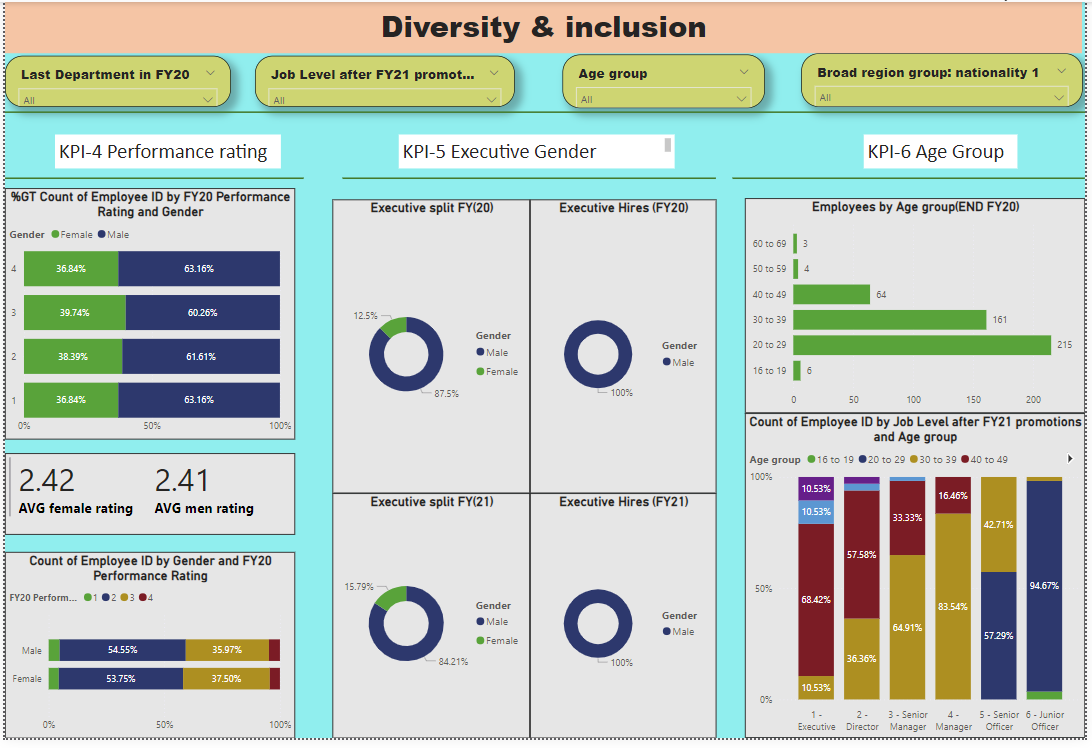

The dashboard page shown, as its layout file describes it:
{"tool":"powerbi","page":{"name":"Page 2","canvas":[1400,954],"ordinal":1},"visuals":[{"type":"slicer","fields":{"Values":["Pharma Group AG.Last Department in FY20"]},"box":[0,69.6,293.2,66.4],"z":0},{"type":"slicer","fields":{"Values":["Pharma Group AG.Job Level after FY21 promotions"]},"box":[323.9,69.6,336.9,66.4],"z":1000},{"type":"slicer","fields":{"Values":["Pharma Group AG.Age group"]},"box":[722.4,68,262.4,69.6],"z":2000},{"type":"slicer","fields":{"Values":["Pharma Group AG.Broad region group: nationality 1"]},"box":[1031.7,66.4,364.4,69.6],"z":3000},{"type":"textbox","box":[0,0,1396.2,66.4],"z":4000},{"type":"shape","box":[0,135.5,1400.3,13.4],"z":5000},{"type":"hundredPercentStackedBarChart","fields":{"Category":["Pharma Group AG.FY20 Performance Rating"],"Y":["CountNonNull(Pharma Group AG.Employee ID)"],"Series":["Pharma Group AG.Gender"]},"box":[0,241.3,375.8,325.6],"z":6000},{"type":"hundredPercentStackedBarChart","fields":{"Category":["Pharma Group AG.Gender"],"Y":["CountNonNull(Pharma Group AG.Employee ID)"],"Series":["Pharma Group AG.FY20 Performance Rating"]},"box":[0,712.7,375.8,241.3],"z":7000},{"type":"donutChart","title":"Executive split FY(20)","fields":{"Category":["Pharma Group AG.Gender"],"Y":["CountNonNull(Pharma Group AG.Employee ID)"]},"box":[424.4,255.9,255.9,380.6],"z":8000},{"type":"donutChart","title":"Executive Hires (FY20)","fields":{"Category":["Pharma Group AG.Gender"],"Y":["CountNonNull(Pharma Group AG.Employee ID)"]},"box":[680.3,255.9,241.3,380.6],"z":9000},{"type":"donutChart","title":"Executive Hires (FY21)","fields":{"Category":["Pharma Group AG.Gender"],"Y":["CountNonNull(Pharma Group AG.Employee ID)"]},"box":[680.3,636.5,241.3,317.5],"z":10000},{"type":"donutChart","title":"Executive split FY(21)","fields":{"Category":["Pharma Group AG.Gender"],"Y":["CountNonNull(Pharma Group AG.Employee ID)"]},"box":[424.4,636.5,255.9,317.5],"z":11000},{"type":"clusteredBarChart","title":"Employees by Age group(END FY20)","fields":{"Category":["Pharma Group AG.Age group"],"Y":["CountNonNull(Pharma Group AG.Employee ID)"]},"box":[958.9,254.3,440.6,278.6],"z":12000},{"type":"hundredPercentStackedColumnChart","fields":{"Category":["Pharma Group AG.Job Level after FY21 promotions"],"Series":["Pharma Group AG.Age group"],"Y":["CountNonNull(Pharma Group AG.Employee ID)"]},"box":[958.9,532.9,440.6,421.1],"z":13000},{"type":"textbox","box":[64.8,171.7,293.2,43.7],"z":14000},{"type":"textbox","box":[510.2,171.7,358,43.7],"z":15000},{"type":"textbox","box":[1112.7,171.7,199.2,43.7],"z":16000},{"type":"shape","box":[0,215.4,387.1,25.9],"z":17000},{"type":"shape","box":[437.3,215.4,484.3,25.9],"z":18000},{"type":"shape","box":[942.7,215.4,456.8,25.9],"z":19000},{"type":"multiRowCard","fields":{"Values":["Pharma Group AG.AVG female rating","Pharma Group AG.AVG men rating"]},"box":[0,584.7,375.8,105.3],"z":20000}]}

Visuals, with their boxes in screenshot pixels (x1, y1, x2, y2), scaled from the page's 1400x954 canvas onto the 1092x748 screenshot:
slicer - Pharma Group AG.Last Department in FY20: [0, 55, 229, 107]
slicer - Pharma Group AG.Job Level after FY21 promotions: [253, 55, 515, 107]
slicer - Pharma Group AG.Age group: [563, 53, 768, 108]
slicer - Pharma Group AG.Broad region group: nationality 1: [805, 52, 1089, 107]
textbox: [0, 0, 1089, 52]
shape: [0, 106, 1091, 117]
hundredPercentStackedBarChart - Pharma Group AG.FY20 Performance Rating x CountNonNull(Pharma Group AG.Employee ID): [0, 189, 293, 444]
hundredPercentStackedBarChart - Pharma Group AG.Gender x CountNonNull(Pharma Group AG.Employee ID): [0, 559, 293, 747]
"Executive split FY(20)" donutChart: [331, 201, 531, 499]
"Executive Hires (FY20)" donutChart: [531, 201, 719, 499]
"Executive Hires (FY21)" donutChart: [531, 499, 719, 747]
"Executive split FY(21)" donutChart: [331, 499, 531, 747]
"Employees by Age group(END FY20)" clusteredBarChart: [748, 199, 1091, 418]
hundredPercentStackedColumnChart - Pharma Group AG.Job Level after FY21 promotions x Pharma Group AG.Age group: [748, 418, 1091, 747]
textbox: [51, 135, 279, 169]
textbox: [398, 135, 677, 169]
textbox: [868, 135, 1023, 169]
shape: [0, 169, 302, 189]
shape: [341, 169, 719, 189]
shape: [735, 169, 1091, 189]
multiRowCard - Pharma Group AG.AVG female rating x Pharma Group AG.AVG men rating: [0, 458, 293, 541]
